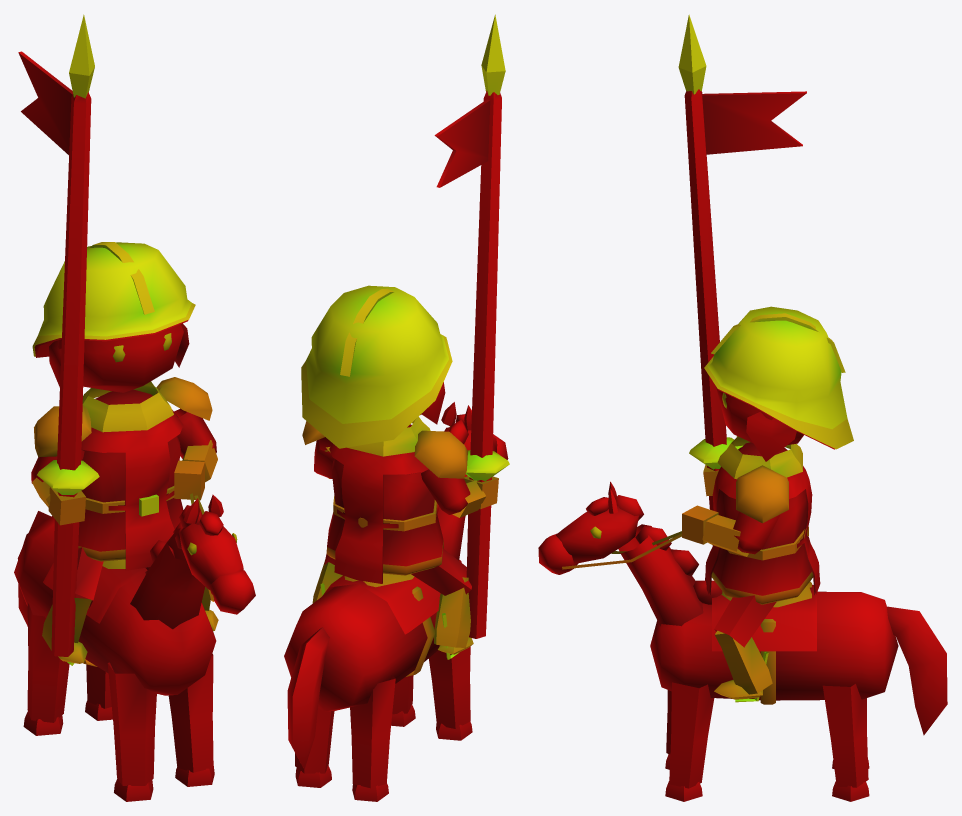
File: Horseman_LOD1.glb
3 renders of one model, left to right at view 1: azimuth 30°, elevation 25°; view 2: azimuth 150°, elevation 25°; view 3: azimuth 270°, elevation 25°, orthographic. The views are drawn at different scales.
Parts seen in each view (by area): view 1: Horseman_LOD1; view 2: Horseman_LOD1; view 3: Horseman_LOD1.
Part boxes in pixels (bbox=[...]): Horseman_LOD1: bbox=[14, 14, 255, 801]; Horseman_LOD1: bbox=[284, 14, 509, 801]; Horseman_LOD1: bbox=[538, 14, 947, 801].
Size of the model in its own units: 0.5239 by 2.07 by 1.05.
